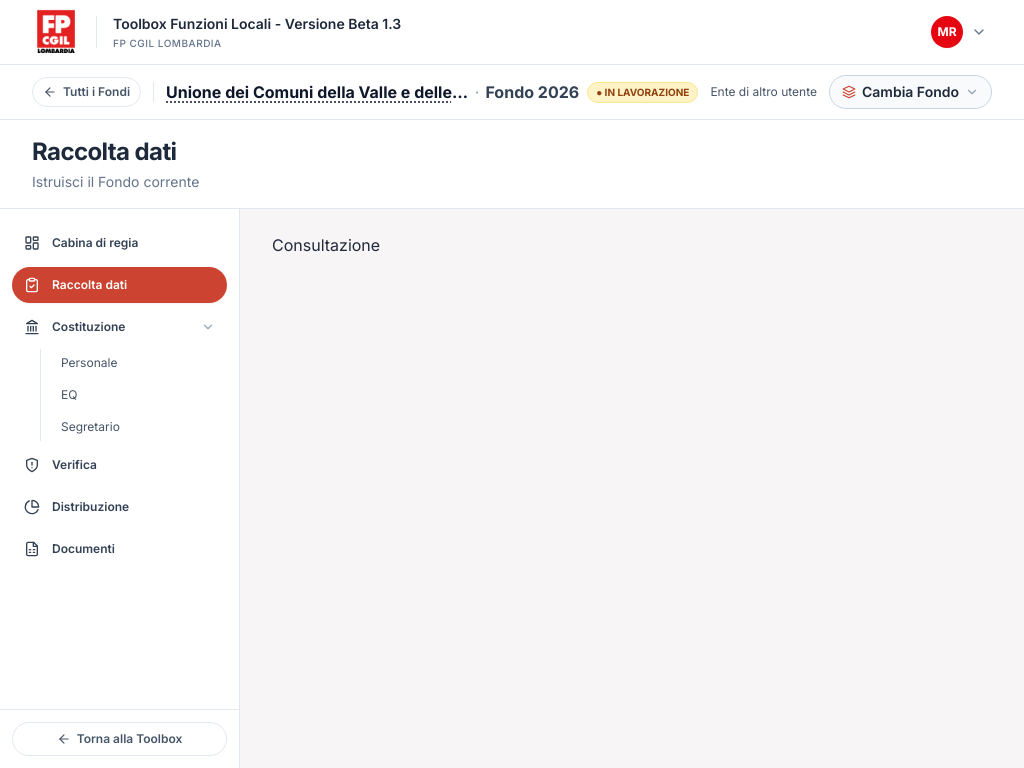
Test case: Fund context on the real layout (DOM responsive contract) › Admin on a foreign entity sees owner context, without treating ownership as authorship
This screenshot has width=1024, height=768.
Expected: the text with test id "foreign-owner-context" reads "Ente di altro utente", [710, 84, 817, 99]
What coordinates should you click on to do the following:
click the button with aria-label "Consulta nome completo: Unione dei Comuni della Valle e dell"
I would click on:
 (317, 92)
Its box is [166, 80, 469, 104].
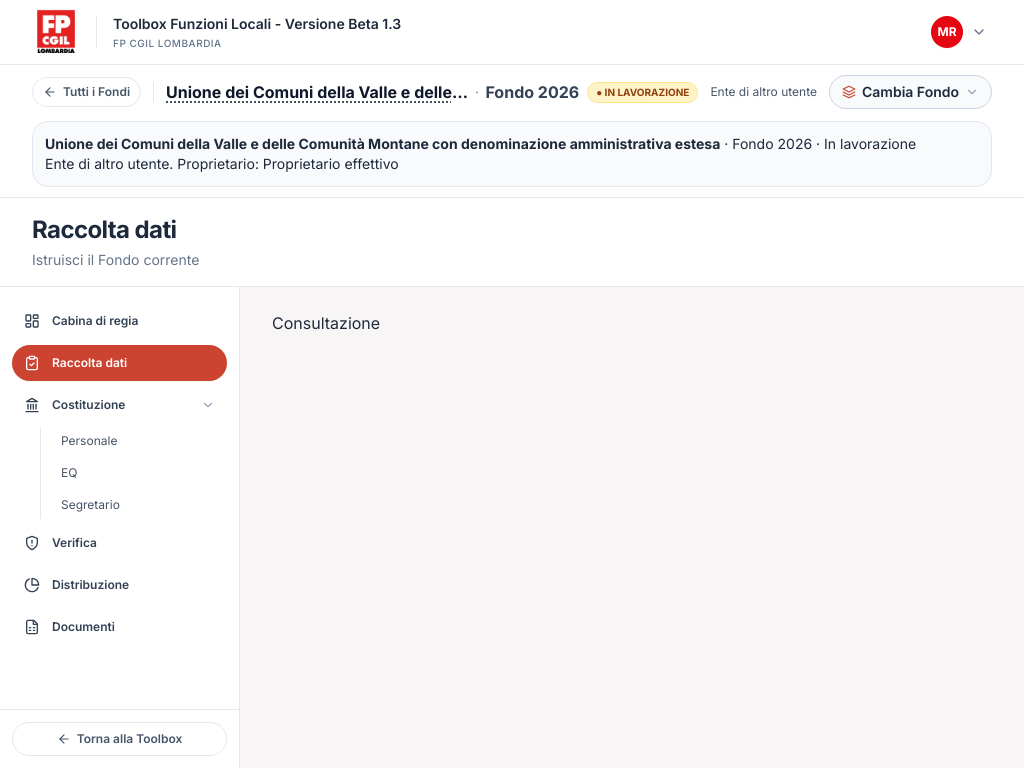
Expected: the text "Ente di altro utente. Proprietario: Proprietario effettivo" is shown, [45, 155, 399, 172]
